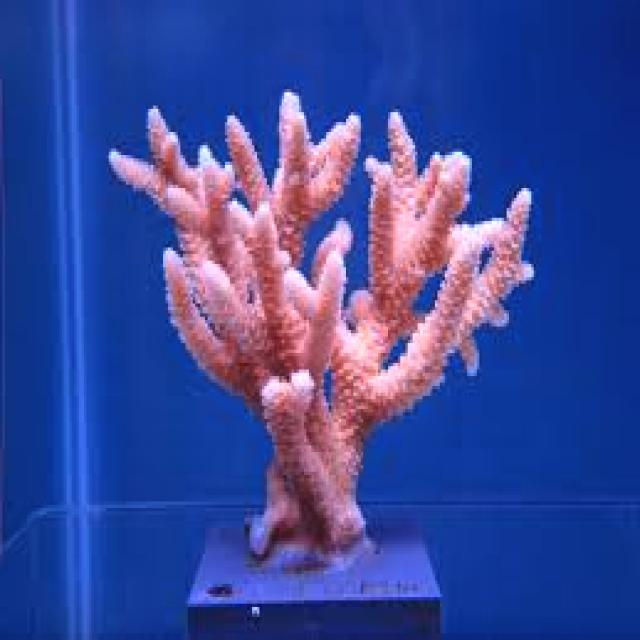Coral: (106, 86, 536, 554)
